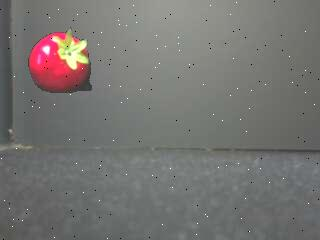Tomato: (27, 30, 91, 96)
